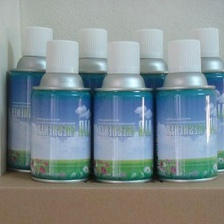aerosol_cans: (55, 19, 126, 176), (88, 37, 161, 186), (1, 19, 70, 176), (26, 35, 97, 187), (151, 36, 219, 187), (168, 18, 223, 178), (120, 20, 174, 176)
